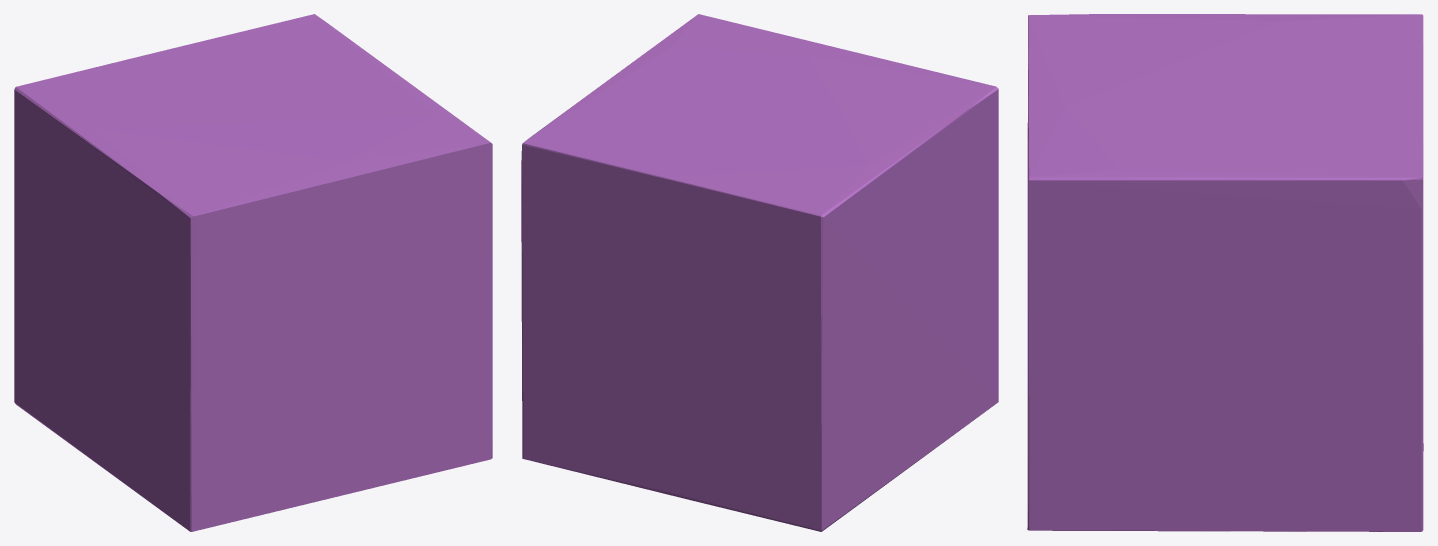
3 views of the same model, side by side, from view 1: azimuth 30°, elevation 25°; view 2: azimuth 150°, elevation 25°; view 3: azimuth 270°, elevation 25° (orthographic). The views are drawn at different scales.
Visible parts, largest first — view 1: geometry_0; view 2: geometry_0; view 3: geometry_0.
Boxes of the visible parts, left/top/right/bottom form: geometry_0: left=14, top=14, right=492, bottom=531; geometry_0: left=521, top=14, right=998, bottom=531; geometry_0: left=1027, top=14, right=1423, bottom=531.
Bounding box in the file's own units: 0.4728 × 0.4748 × 0.4792.
